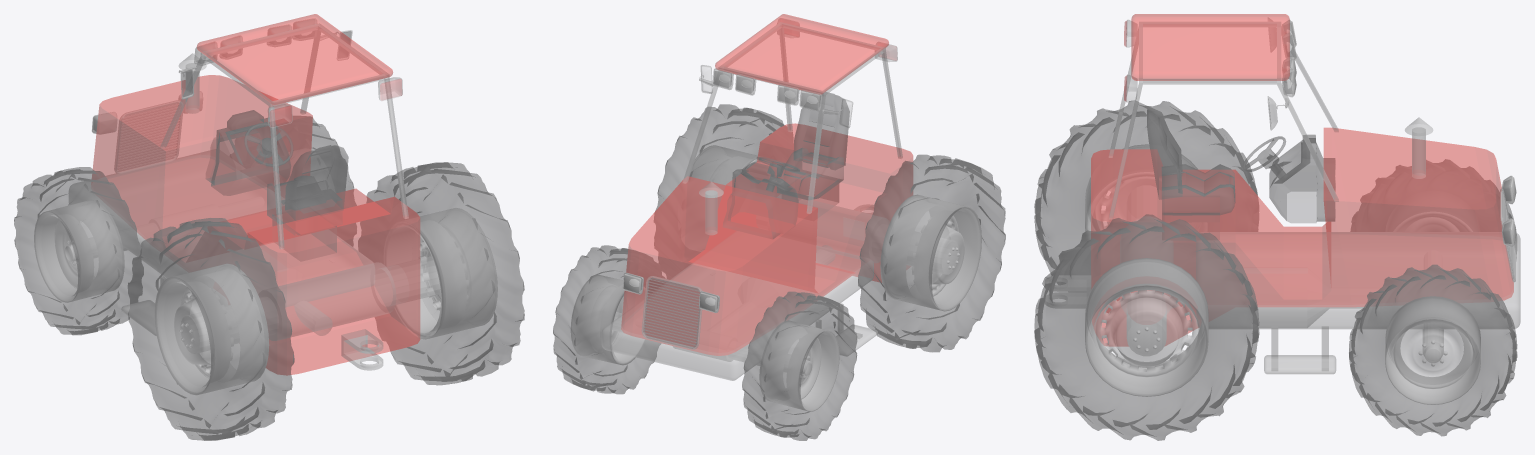
The model's file is TRACTOR.glb.
3 views of the same model, side by side, from view 1: azimuth 30°, elevation 25°; view 2: azimuth 150°, elevation 25°; view 3: azimuth 270°, elevation 25° (orthographic). The views are drawn at different scales.
Visible parts, largest first — view 1: Tractor; view 2: Tractor; view 3: Tractor.
Boxes of the visible parts, x1,y1,x2,y2 form: Tractor: (14,14,524,440); Tractor: (553,14,1005,440); Tractor: (1034,14,1520,440).
Bounding box in the file's own units: 2.89 × 2.97 × 3.95.
